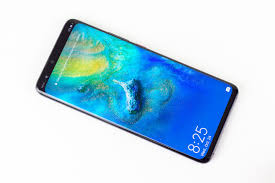huawei: (33, 16, 243, 167)
